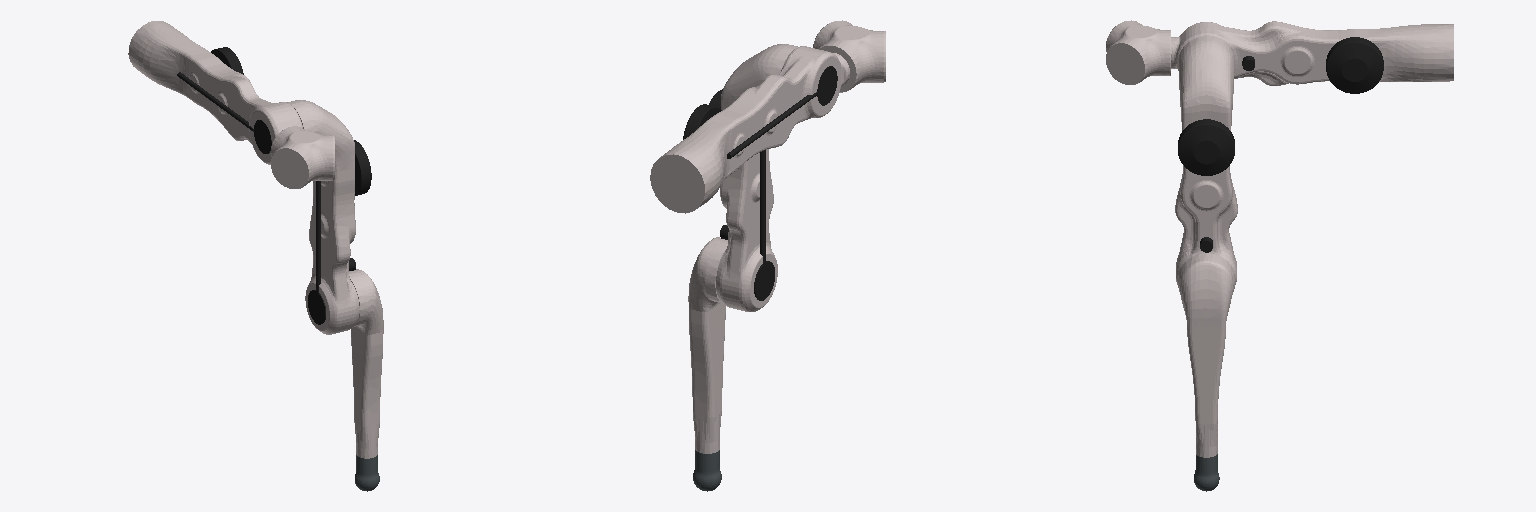
robot.urdf — fingerpro:
<?xml version="1.0" ?>
<!-- =================================================================================== -->
<!-- |    This document was autogenerated by xacro from robot_properties_fingers/xacro/pro/fingerpro.urdf.xacro | -->
<!-- |    EDITING THIS FILE BY HAND IS NOT RECOMMENDED                                 | -->
<!-- =================================================================================== -->
<robot name="fingerpro">
  <!--
    Frames are defined such that they all align with the base frame when all
    joints are at position zero.

    In zero-configuration the origins of all joints are in one line.

    In zero-configuration the origin of the base link is exactly above the
    finger tip which should make it easy to place the finger in the world.
    -->
  <!--
    Frames are defined such that they all align with the base frame when all
    joints are at position zero.

    In zero-configuration the origins of all joints are in one line.

    In zero-configuration the origin of the base link is exactly above the
    finger tip which should make it easy to place the finger in the world.
    -->
  <material name="fingerpro_shell">
    <!-- colour from image -->
    <color rgba="0.804 0.764 0.761 1.0"/>
  </material>
  <material name="fingerpro_tip">
    <!-- colour from image -->
    <color rgba="0.33 0.36 0.37 1.0"/>
  </material>
  <material name="fingerpro_motor">
    <color rgba="0.17 0.17 0.17 1.0"/>
  </material>
  <!--
        Fixed links for the finger base (parts where the upper link is mounted).
        Note: Link Frames already coincide with the joint location
        -->
  <link name="finger_base_link">
    <inertial>
      <mass value="0"/>
      <inertia ixx="0.0" ixy="0.0" ixz="0.0" iyy="0.0" iyz="0.0" izz="0.0"/>
    </inertial>
  </link>
  <link name="finger_upper_link">
    <visual>
      <origin rpy="0 0 0" xyz="0 0 0"/>
      <geometry>
        <mesh filename="package://robot_properties_fingers/meshes/pro/prox-sim.obj" scale="1.0 1.0 1.0"/>
      </geometry>
      <material name="fingerpro_shell"/>
    </visual>
    <collision>
      <origin rpy="0 0 0" xyz="0 0 0"/>
      <geometry>
        <mesh filename="package://robot_properties_fingers/meshes/pro/prox-sim.obj" scale="1.0 1.0 1.0"/>
      </geometry>
    </collision>
    <inertial>
      <origin rpy="0 0 0" xyz="0.006 0.122 0.000"/>
      <mass value="0.26689"/>
      <inertia ixx="0.00102362" ixy="0.00000889" ixz="-0.00000019" iyx="0.00000889" iyy="0.00006450" iyz="0.00000106" izx="-0.00000019" izy="0.00000106" izz="0.00102225"/>
    </inertial>
  </link>
  <link name="finger_upper_link_visuals">
    <!-- motor -->
    <visual>
      <origin xyz="0.01569 0.1643 0"/>
      <geometry>
        <mesh filename="package://robot_properties_fingers/meshes/pro/motor_sim.obj"/>
      </geometry>
      <material name="fingerpro_motor"/>
    </visual>
    <!-- end stop -->
    <visual>
      <origin rpy="0 1.5707963267948966 0" xyz="0.015 0.083 0"/>
      <geometry>
        <cylinder length="0.015" radius="0.005"/>
      </geometry>
      <material name="fingerpro_motor"/>
    </visual>
    <!-- cables -->
    <visual>
      <origin rpy="1.5707963267948966 0 0" xyz="-0.008 0.124 0"/>
      <geometry>
        <cylinder length="0.12" radius="0.002"/>
      </geometry>
      <material name="fingerpro_motor"/>
    </visual>
    <!-- opening on lower joint -->
    <visual>
      <origin rpy="0 1.5707963267948966 0" xyz="-0.0085 0.050 0"/>
      <geometry>
        <cylinder length="0.002" radius="0.014"/>
      </geometry>
      <material name="fingerpro_motor"/>
    </visual>
    <inertial>
      <mass value="0"/>
      <inertia ixx="0.0" ixy="0.0" ixz="0.0" iyy="0.0" iyz="0.0" izz="0.0"/>
    </inertial>
  </link>
  <joint name="finger_upper_visuals_joint" type="fixed">
    <parent link="finger_upper_link"/>
    <child link="finger_upper_link_visuals"/>
    <origin xyz="0 0 0"/>
  </joint>
  <link name="finger_middle_link">
    <visual>
      <origin rpy="0 0 0" xyz="0 0 0"/>
      <geometry>
        <mesh filename="package://robot_properties_fingers/meshes/pro/int_sim.obj" scale="1.0 1.0 1.0"/>
      </geometry>
      <material name="fingerpro_shell"/>
    </visual>
    <collision>
      <origin rpy="0 0 0" xyz="0 0 0"/>
      <geometry>
        <mesh filename="package://robot_properties_fingers/meshes/pro/int_sim.obj" scale="1.0 1.0 1.0"/>
      </geometry>
    </collision>
    <inertial>
      <origin rpy="0 0 0" xyz="0.03935008 -0.00012438 -0.08666705"/>
      <mass value="0.27163"/>
      <inertia ixx="0.00094060" ixy="-0.00000046" ixz="-0.00003479" iyx="-0.00000046" iyy="0.00094824" iyz="0.00000164" izx="-0.00003479" izy="0.00000164" izz="0.00007573"/>
    </inertial>
  </link>
  <link name="finger_middle_link_visuals">
    <!-- motor -->
    <visual>
      <origin xyz="0.0488 0 -0.0462"/>
      <geometry>
        <mesh filename="package://robot_properties_fingers/meshes/pro/motor_sim.obj"/>
      </geometry>
      <material name="fingerpro_motor"/>
    </visual>
    <!-- end stop -->
    <visual>
      <origin rpy="0 1.5707963267948966 0" xyz="0.0488 0 -0.13"/>
      <geometry>
        <cylinder length="0.015" radius="0.005"/>
      </geometry>
      <material name="fingerpro_motor"/>
    </visual>
    <!-- cables -->
    <visual>
      <origin xyz="0.025 0 -0.09"/>
      <geometry>
        <cylinder length="0.12" radius="0.002"/>
      </geometry>
      <material name="fingerpro_motor"/>
    </visual>
    <!-- opening on lower joint -->
    <visual>
      <origin rpy="0 1.5707963267948966 0" xyz="0.024 0 -0.16"/>
      <geometry>
        <cylinder length="0.002" radius="0.014"/>
      </geometry>
      <material name="fingerpro_motor"/>
    </visual>
    <inertial>
      <mass value="0"/>
      <inertia ixx="0.0" ixy="0.0" ixz="0.0" iyy="0.0" iyz="0.0" izz="0.0"/>
    </inertial>
  </link>
  <joint name="finger_middle_visuals_joint" type="fixed">
    <parent link="finger_middle_link"/>
    <child link="finger_middle_link_visuals"/>
  </joint>
  <link name="finger_lower_link">
    <visual>
      <origin rpy="0 0 0" xyz="0 0 0"/>
      <geometry>
        <mesh filename="package://robot_properties_fingers/meshes/pro/tip_link_sim.obj" scale="1.0 1.0 1.0"/>
      </geometry>
      <material name="fingerpro_shell"/>
    </visual>
    <collision>
      <origin rpy="0 0 0" xyz="0 0 0"/>
      <geometry>
        <mesh filename="package://robot_properties_fingers/meshes/pro/tip_link_sim.obj" scale="1.0 1.0 1.0"/>
      </geometry>
    </collision>
    <inertial>
      <origin rpy="0 0 0" xyz="0.01632700 -0.00001095 -0.04284052"/>
      <mass value="0.05569"/>
      <inertia ixx="0.00013626" ixy="0.00000000" ixz="-0.00000662" iyx="0.00000000" iyy="0.00013372" iyz="0.00000004" izx="-0.00000662" izy="0.00000004" izz="0.00000667"/>
    </inertial>
  </link>
  <!-- fixed link for finger tip -->
  <link name="finger_tip_link">
    <visual>
      <origin rpy="0 0 0" xyz="0 0 0"/>
      <geometry>
        <mesh filename="package://robot_properties_fingers/meshes/pro/tip_sim.obj" scale="1.0 1.0 1.0"/>
      </geometry>
      <material name="fingerpro_tip"/>
    </visual>
    <collision>
      <origin rpy="0 0 0" xyz="0 0 0"/>
      <geometry>
        <mesh filename="package://robot_properties_fingers/meshes/pro/tip_sim.obj" scale="1.0 1.0 1.0"/>
      </geometry>
    </collision>
    <inertial>
      <origin rpy="0 0 0" xyz="0 0 0"/>
      <mass value="0.031"/>
      <inertia ixx="5.166666666666667e-07" ixy="0" ixz="0" iyy="5.166666666666667e-07" iyz="0" izz="5.166666666666667e-07"/>
    </inertial>
    <inertial>
      <origin rpy="0 0 0" xyz="-0.00001194 0.00000000 0.01560060"/>
      <mass value="0.0092"/>
      <inertia ixx="0.00000155" ixy="0.00000000" ixz="0.00000000" iyx="0.00000000" iyy="0.00000155" iyz="0.00000000" izx="0.00000000" izy="0.00000000" izz="0.00000032"/>
    </inertial>
  </link>
  <joint name="finger_lower_to_tip_joint" type="fixed">
    <parent link="finger_lower_link"/>
    <child link="finger_tip_link"/>
    <origin xyz="0.019 0 -0.16"/>
  </joint>
  <!-- kinematics -->
  <!-- NOTE: Joint limits are set according to soft limits in the
             configuration of the real robot (i.e. not according to physical
             limits). -->
  <joint name="finger_base_to_upper_joint" type="revolute">
    <parent link="finger_base_link"/>
    <child link="finger_upper_link"/>
    <limit effort="1000" lower="-0.33" upper="1.0" velocity="1000"/>
    <axis xyz="0 1 0"/>
    <origin rpy="0 0 0" xyz="0 0 0"/>
  </joint>
  <joint name="finger_upper_to_middle_joint" type="revolute">
    <parent link="finger_upper_link"/>
    <child link="finger_middle_link"/>
    <limit effort="1000" lower="0.0" upper="1.57" velocity="1000"/>
    <axis xyz="1 0 0"/>
    <origin rpy="0 0 0" xyz="0.01685 0.0505 0"/>
  </joint>
  <joint name="finger_middle_to_lower_joint" type="revolute">
    <parent link="finger_middle_link"/>
    <child link="finger_lower_link"/>
    <limit effort="1000" lower="-2.7" upper="0.0" velocity="1000"/>
    <axis xyz="1 0 0"/>
    <origin rpy="0 0 0" xyz="0.05015 0 -0.16"/>
  </joint>
  <!--
    Define the global base link and place the finger relative to it.
    Note: Here I've used the center point of the center piece as the origin 
    -->
  <link name="base_link">
    <!-- add inertial to suppress warning -->
    <inertial>
      <mass value="0"/>
      <inertia ixx="0.0" ixy="0.0" ixz="0.0" iyy="0.0" iyz="0.0" izz="0.0"/>
    </inertial>
  </link>
  <link name="center_link">
    <visual>
      <origin rpy="0 0 0" xyz="0 0 0"/>
      <geometry>
        <mesh filename="package://robot_properties_fingers/meshes/pro/center_axis_sim.obj" scale="1.0 1.0 1.0"/>
      </geometry>
      <material name="fingerpro_shell"/>
    </visual>
    <collision>
      <origin rpy="0 0 0" xyz="0 0 0"/>
      <geometry>
        <mesh filename="package://robot_properties_fingers/meshes/pro/center_axis_sim.obj" scale="1.0 1.0 1.0"/>
      </geometry>
    </collision>
    <inertial>
      <origin rpy="0 0 0" xyz="0 0 0"/>
      <mass value="1"/>
      <inertia ixx="4.166666666666667e-06" ixy="0" ixz="0" iyy="4.166666666666667e-06" iyz="0" izz="4.166666666666667e-06"/>
    </inertial>
  </link>
  <joint name="base_to_center_joint" type="fixed">
    <parent link="base_link"/>
    <child link="center_link"/>
    <origin xyz="0 0 0.29"/>
  </joint>
  <joint name="base_to_finger" type="fixed">
    <parent link="center_link"/>
    <child link="finger_base_link"/>
    <origin xyz="0 0 0"/>
  </joint>
</robot>

--- Facts derived from the render (not from the file) ---
The picture shows the robot from 3 angles, left to right: view 1: azimuth 30°, elevation 25°; view 2: azimuth 150°, elevation 25°; view 3: azimuth 270°, elevation 25°; orthographic projection.
Robot: fingerpro — 9 links, 8 joints (3 revolute, 5 fixed); root link base_link; default pose: all joints at 0.
Links seen in each view (by area): view 1: finger_upper_link, finger_middle_link, finger_lower_link, center_link, finger_middle_link_visuals, finger_upper_link_visuals, finger_tip_link; view 2: finger_upper_link, finger_middle_link, finger_lower_link, center_link, finger_upper_link_visuals, finger_middle_link_visuals, finger_tip_link; view 3: finger_upper_link, finger_middle_link, finger_lower_link, center_link, finger_upper_link_visuals, finger_middle_link_visuals, finger_tip_link.
Boxes of the visible links, left/top/right/bottom form: finger_upper_link: left=128, top=21, right=302, bottom=164; finger_middle_link: left=287, top=100, right=359, bottom=334; finger_lower_link: left=349, top=269, right=383, bottom=458; center_link: left=271, top=126, right=334, bottom=188; finger_middle_link_visuals: left=308, top=140, right=371, bottom=324; finger_upper_link_visuals: left=177, top=47, right=271, bottom=153; finger_tip_link: left=355, top=455, right=379, bottom=491; finger_upper_link: left=650, top=46, right=849, bottom=213; finger_middle_link: left=716, top=44, right=797, bottom=311; finger_lower_link: left=688, top=237, right=727, bottom=453; center_link: left=813, top=20, right=885, bottom=92; finger_upper_link_visuals: left=683, top=66, right=837, bottom=158; finger_middle_link_visuals: left=709, top=89, right=774, bottom=300; finger_tip_link: left=693, top=450, right=721, bottom=491; finger_upper_link: left=1171, top=21, right=1453, bottom=85; finger_middle_link: left=1175, top=36, right=1237, bottom=284; finger_lower_link: left=1178, top=253, right=1234, bottom=457; center_link: left=1106, top=20, right=1170, bottom=84; finger_upper_link_visuals: left=1242, top=37, right=1383, bottom=93; finger_middle_link_visuals: left=1178, top=119, right=1234, bottom=252; finger_tip_link: left=1194, top=454, right=1219, bottom=491.
Bounding box of the posed robot: 0.1251 × 0.2673 × 0.3555 m (x, y, z).
7 mesh visuals loaded from 6 distinct referenced files (6 OBJ).